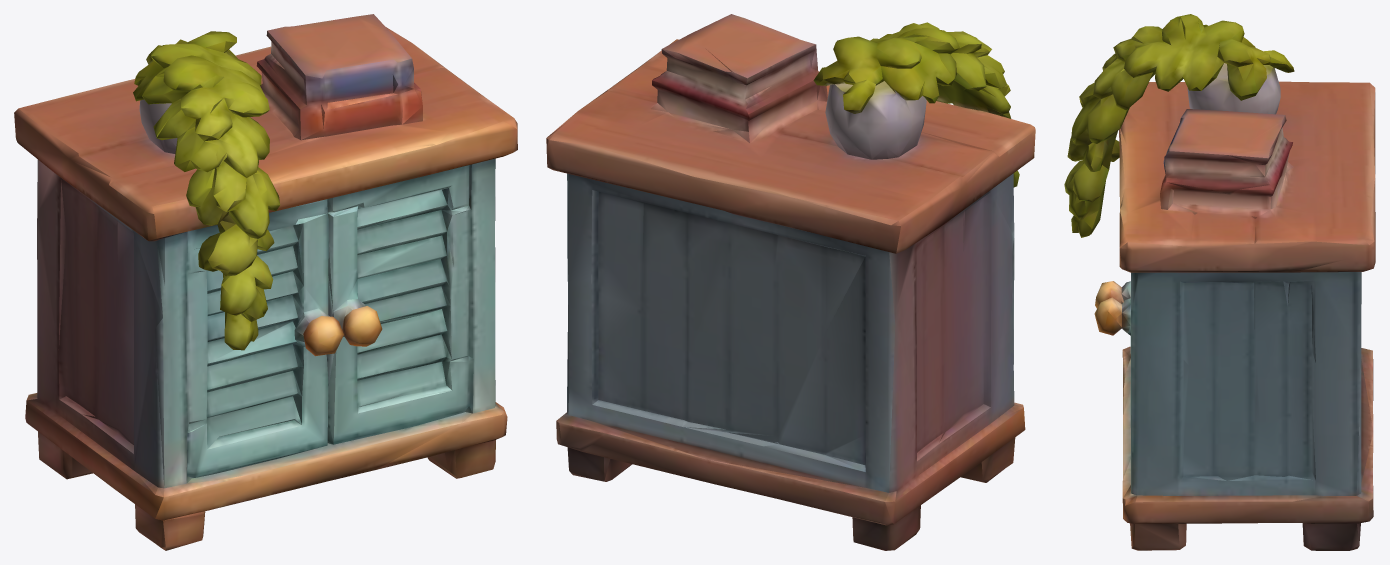
Rendered from cabinet24.glb.
The picture shows the model from 3 angles, left to right: view 1: azimuth 30°, elevation 25°; view 2: azimuth 150°, elevation 25°; view 3: azimuth 270°, elevation 25°; orthographic projection. The views are drawn at different scales.
Bounding box in the file's own units: 0.215 × 0.2516 × 0.172.
Materials: 1 (1 with a texture image).
